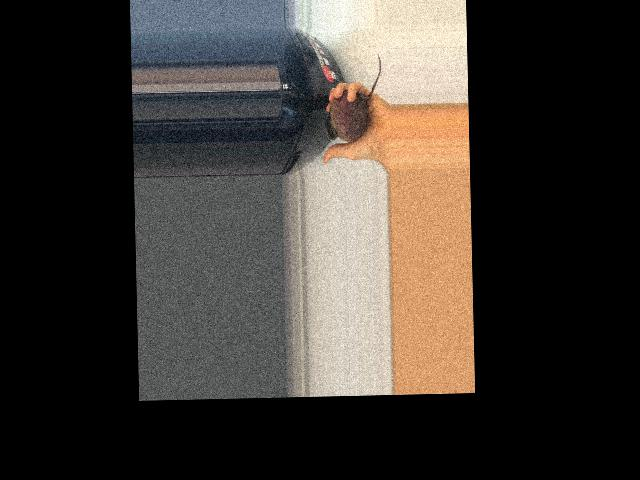beet: (324, 53, 383, 141)
